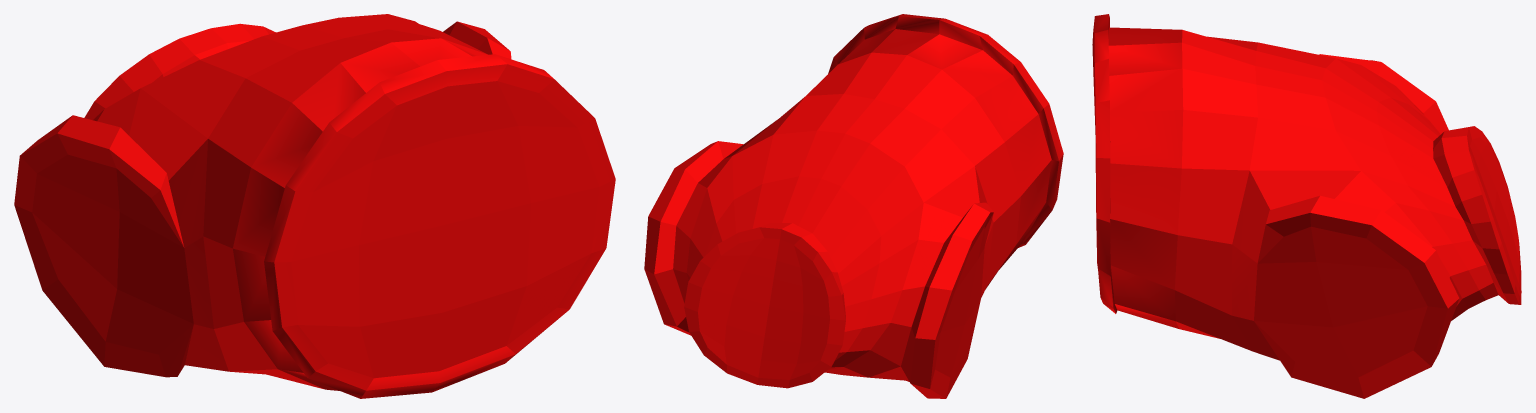
3 renders of one model, left to right at view 1: azimuth 30°, elevation 25°; view 2: azimuth 150°, elevation 25°; view 3: azimuth 270°, elevation 25°, orthographic. The views are drawn at different scales.
Visible parts, largest first — view 1: Stickman_heads_sphere.020; view 2: Stickman_heads_sphere.020; view 3: Stickman_heads_sphere.020.
Part boxes in pixels (x1,y1,x2,y2): Stickman_heads_sphere.020: (14, 14, 615, 398); Stickman_heads_sphere.020: (644, 14, 1063, 398); Stickman_heads_sphere.020: (1092, 14, 1521, 398).
Bounding box in the file's own units: 41.27 × 34.84 × 44.48.
